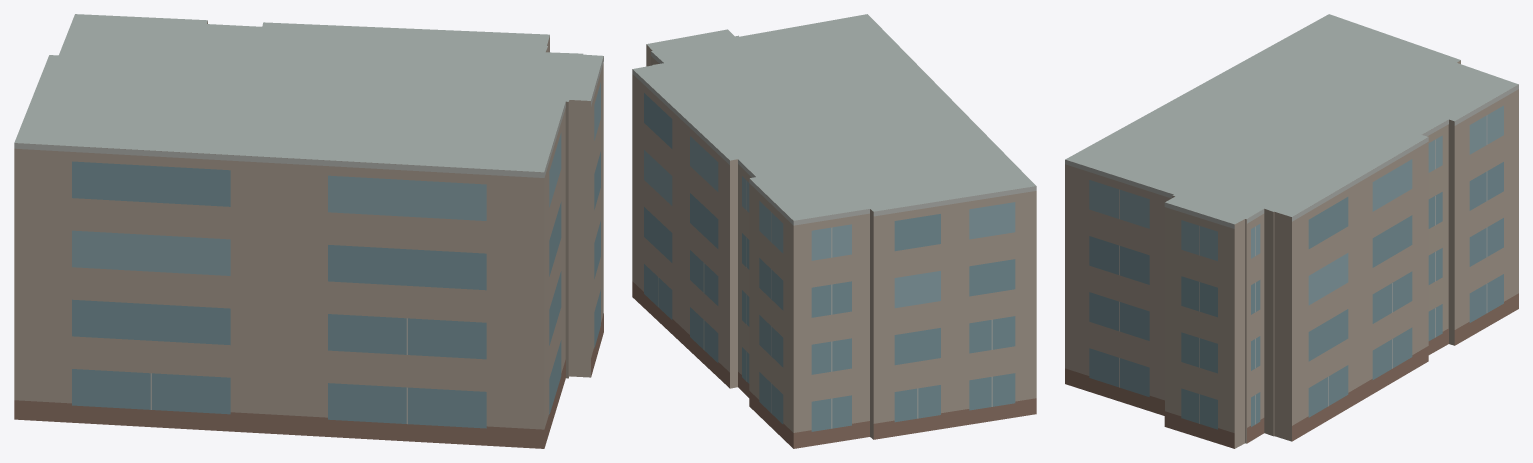
The model's file is survey-upis-32668809.glb.
3 views of the same model, side by side, from view 1: azimuth 30°, elevation 25°; view 2: azimuth 150°, elevation 25°; view 3: azimuth 270°, elevation 25° (orthographic). The views are drawn at different scales.
Visible parts, largest first — view 1: survey-upis-32668809.tmp; view 2: survey-upis-32668809.tmp; view 3: survey-upis-32668809.tmp.
Part boxes in pixels (left/top/right/bottom): survey-upis-32668809.tmp: left=14, top=14, right=603, bottom=448; survey-upis-32668809.tmp: left=632, top=14, right=1036, bottom=448; survey-upis-32668809.tmp: left=1065, top=14, right=1518, bottom=448.
Bounding box in the file's own units: 23.53 × 11.7 × 21.44.
